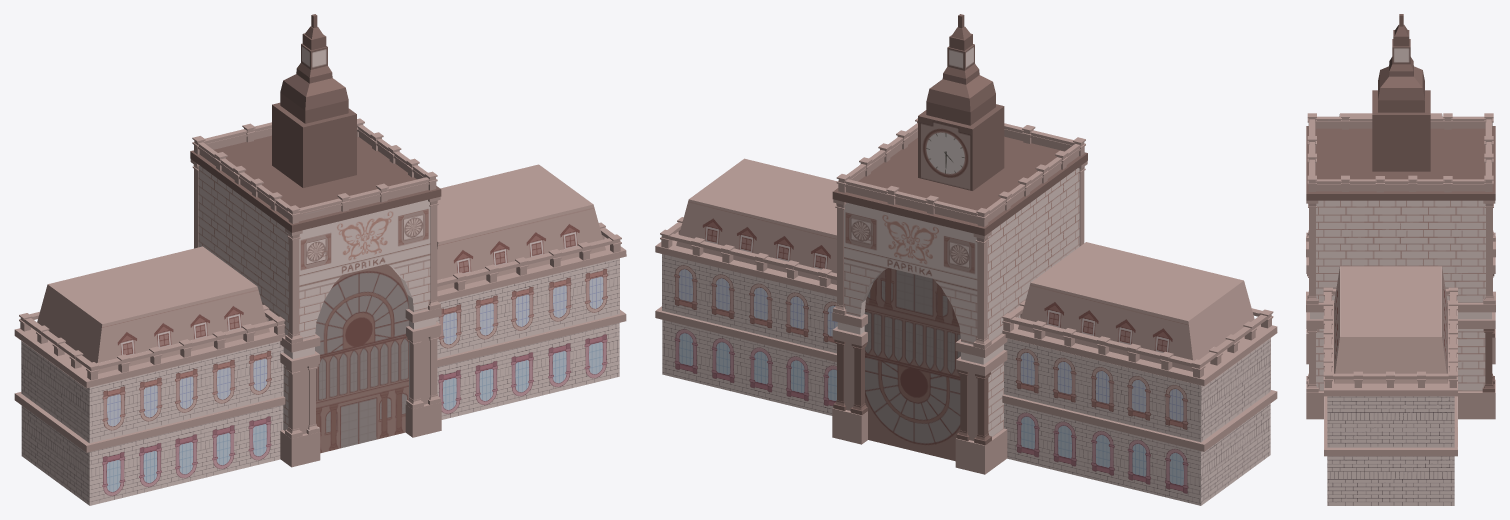
File: 火車站.fbx
The picture shows the model from 3 angles, left to right: view 1: azimuth 30°, elevation 25°; view 2: azimuth 150°, elevation 25°; view 3: azimuth 270°, elevation 25°; orthographic projection. The views are drawn at different scales.
Parts seen in each view (by area): view 1: pCube50, polySurface2, pCube30; view 2: pCube50, polySurface2, pCube30; view 3: pCube50, pCube30.
Part boxes in pixels (bbox=[...]): pCube50: bbox=[190, 14, 441, 467]; polySurface2: bbox=[14, 246, 285, 505]; pCube30: bbox=[436, 164, 626, 419]; pCube50: bbox=[832, 14, 1087, 474]; polySurface2: bbox=[1002, 242, 1277, 505]; pCube30: bbox=[655, 158, 838, 415]; pCube50: bbox=[1306, 14, 1495, 419]; pCube30: bbox=[1323, 266, 1457, 505].
Bounding box in the file's own units: 43 × 30.21 × 14.03.
